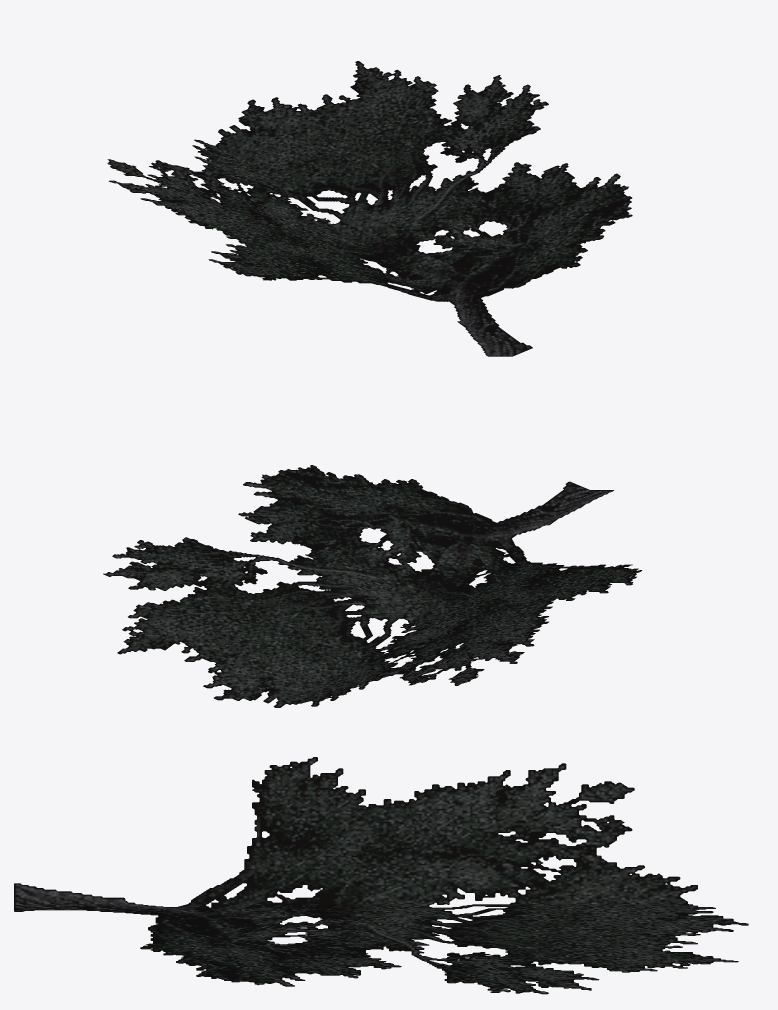
The model's file is SM_EC_Tree_Card_Bent_06.fbx.
3 renders of one model, top to bottom at view 1: azimuth 30°, elevation 25°; view 2: azimuth 150°, elevation 25°; view 3: azimuth 270°, elevation 25°, orthographic. The views are drawn at different scales.
Visible parts, largest first — view 1: SM_EC_Tree_Card_Bent_06; view 2: SM_EC_Tree_Card_Bent_06; view 3: SM_EC_Tree_Card_Bent_06.
Part boxes in pixels (x1,y1,x2,y2): SM_EC_Tree_Card_Bent_06: (107, 61, 632, 356); SM_EC_Tree_Card_Bent_06: (103, 465, 641, 707); SM_EC_Tree_Card_Bent_06: (14, 757, 748, 994).
Bounding box in the file's own units: 3.5 × 4.62 × 0.3409.
